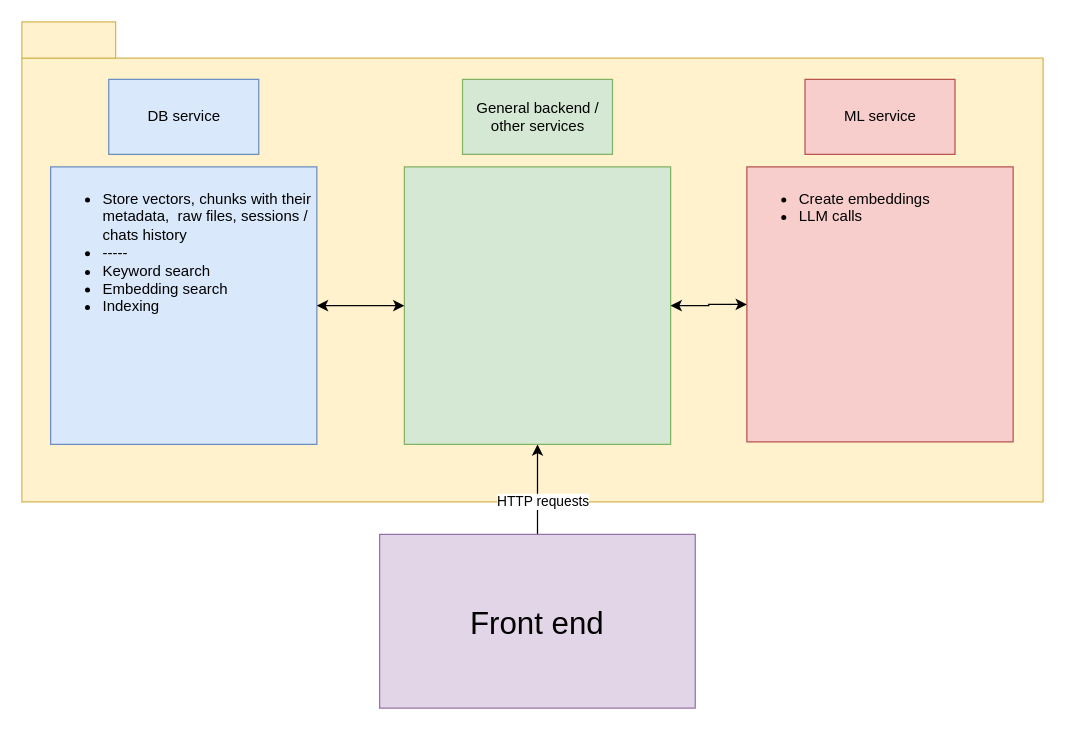
Some shapes in this 1065 by 730 pixel diagram are drawn without their labels. The shapes that lost their labels are listed below. From the top down, each one's centre as x and y in pixels, then its label:
the point at 68,39: Backend
the point at 537,305: Comunication logistics Chat context managment
